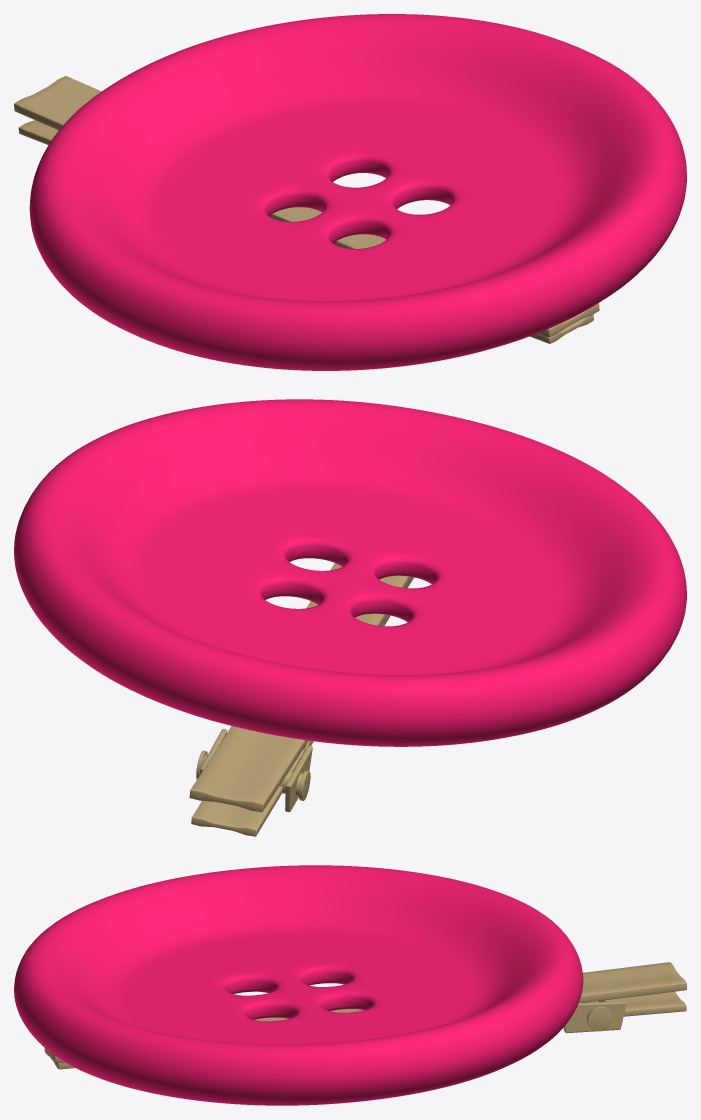
File: HairClip_GlossyPlastic.glb
3 renders of one model, top to bottom at view 1: azimuth 30°, elevation 25°; view 2: azimuth 150°, elevation 25°; view 3: azimuth 270°, elevation 25°, orthographic. The views are drawn at different scales.
Visible parts, largest first — view 1: HairClip_GlossyPlastic__Pink_Four_Hole_Button, HairClip_GlossyPlastic__Fixed_Serrated_Jaw, HairClip_GlossyPlastic__Moving_Jaw_Static_Pose; view 2: HairClip_GlossyPlastic__Pink_Four_Hole_Button, HairClip_GlossyPlastic__Fixed_Serrated_Jaw, HairClip_GlossyPlastic__Moving_Jaw_Static_Pose, HairClip_GlossyPlastic__Pivot_Cheek_L; view 3: HairClip_GlossyPlastic__Pink_Four_Hole_Button, HairClip_GlossyPlastic__Fixed_Serrated_Jaw, HairClip_GlossyPlastic__Moving_Jaw_Static_Pose, HairClip_GlossyPlastic__Pivot_Cheek_R, HairClip_GlossyPlastic__Pivot_Head_R.
Part boxes in pixels (<box>): HairClip_GlossyPlastic__Pink_Four_Hole_Button: <box>29,14,686,370</box>; HairClip_GlossyPlastic__Fixed_Serrated_Jaw: <box>14,76,599,337</box>; HairClip_GlossyPlastic__Moving_Jaw_Static_Pose: <box>18,120,593,343</box>; HairClip_GlossyPlastic__Pink_Four_Hole_Button: <box>14,399,686,746</box>; HairClip_GlossyPlastic__Fixed_Serrated_Jaw: <box>189,563,412,812</box>; HairClip_GlossyPlastic__Moving_Jaw_Static_Pose: <box>191,577,413,836</box>; HairClip_GlossyPlastic__Pivot_Cheek_L: <box>285,745,312,812</box>; HairClip_GlossyPlastic__Pink_Four_Hole_Button: <box>14,865,583,1105</box>; HairClip_GlossyPlastic__Fixed_Serrated_Jaw: <box>42,962,686,1063</box>; HairClip_GlossyPlastic__Moving_Jaw_Static_Pose: <box>44,991,686,1069</box>; HairClip_GlossyPlastic__Pivot_Cheek_R: <box>563,1001,626,1033</box>; HairClip_GlossyPlastic__Pivot_Head_R: <box>587,1006,612,1031</box>.
Bounding box in the file's own units: 39.74 × 8.93 × 47.12.
Materials: 2 (2 with a texture image).
